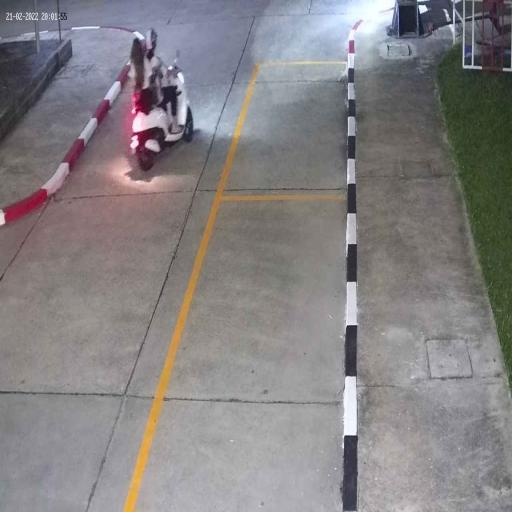motorcycle: (131, 84, 194, 174)
